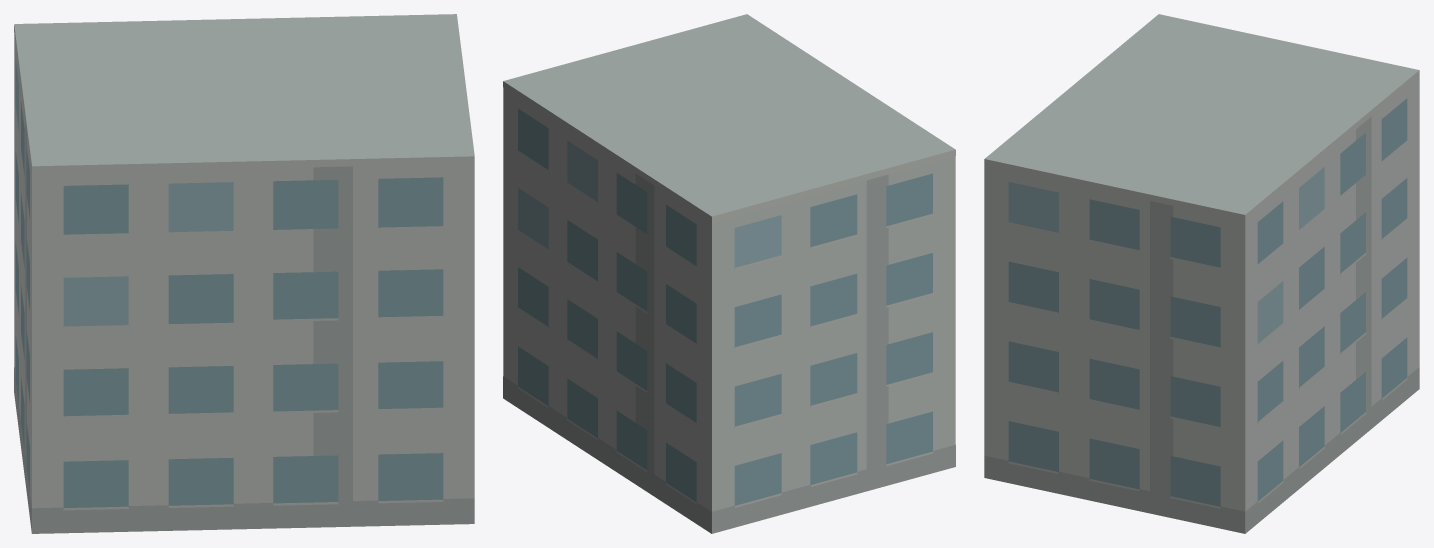
File: residential-b99dda71-828c-4843-a20a-f536fce36926.glb
3 renders of one model, left to right at view 1: azimuth 30°, elevation 25°; view 2: azimuth 150°, elevation 25°; view 3: azimuth 270°, elevation 25°, orthographic. The views are drawn at different scales.
Parts seen in each view (by area): view 1: residential-b99dda71-828c-4843-a20a-f536fce36926.tmp; view 2: residential-b99dda71-828c-4843-a20a-f536fce36926.tmp; view 3: residential-b99dda71-828c-4843-a20a-f536fce36926.tmp.
Part boxes in pixels (x1,y1,x2,y2): residential-b99dda71-828c-4843-a20a-f536fce36926.tmp: (14, 14, 474, 533); residential-b99dda71-828c-4843-a20a-f536fce36926.tmp: (503, 14, 955, 533); residential-b99dda71-828c-4843-a20a-f536fce36926.tmp: (984, 14, 1419, 533).
Bounding box in the file's own units: 16.5 × 12.2 × 15.09.
